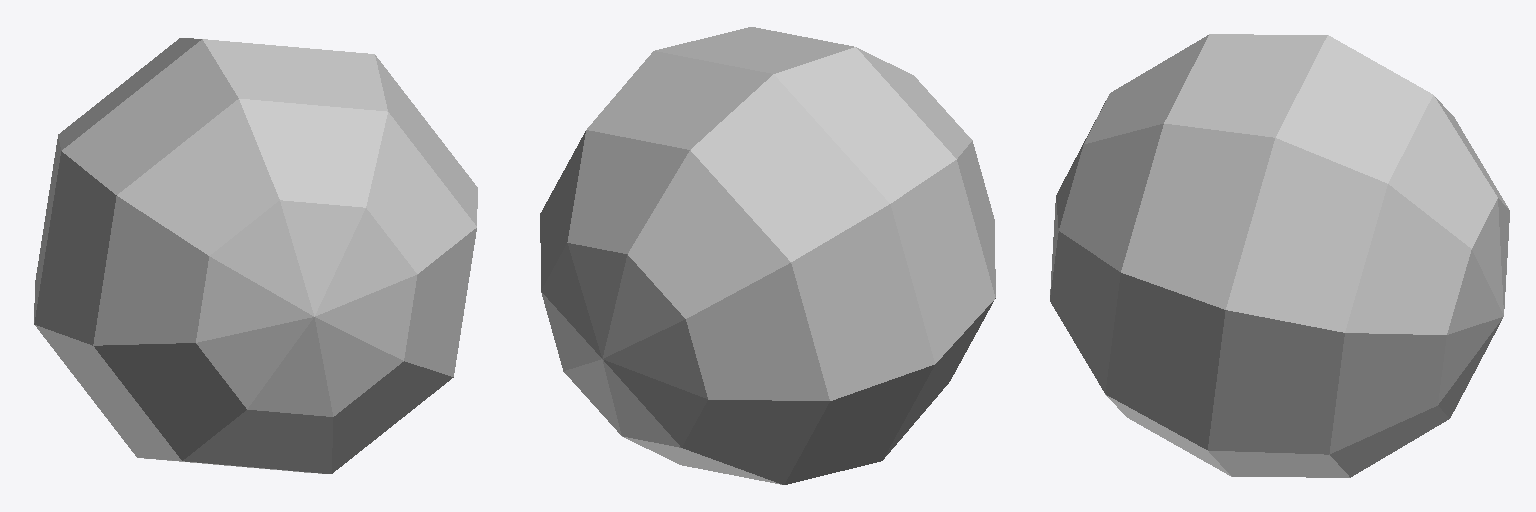
The model's file is orange.obj.
3 views of the same model, side by side, from view 1: azimuth 30°, elevation 25°; view 2: azimuth 150°, elevation 25°; view 3: azimuth 270°, elevation 25° (orthographic).
Parts seen in each view (by area): view 1: Cube.040; view 2: Cube.040; view 3: Cube.040.
Part boxes in pixels (left/top/right/bottom): Cube.040: left=34, top=38, right=477, bottom=473; Cube.040: left=540, top=27, right=995, bottom=484; Cube.040: left=1050, top=34, right=1509, bottom=477.
Size of the model in its own units: 0.3901 by 0.3945 by 0.3983.